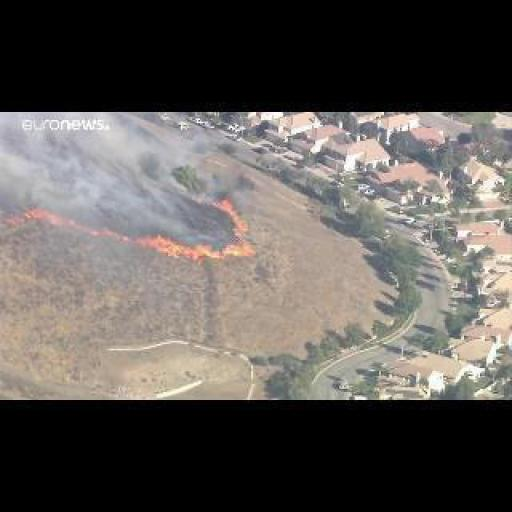smoke: (8, 210, 130, 243), (133, 235, 254, 261), (218, 195, 248, 234)
